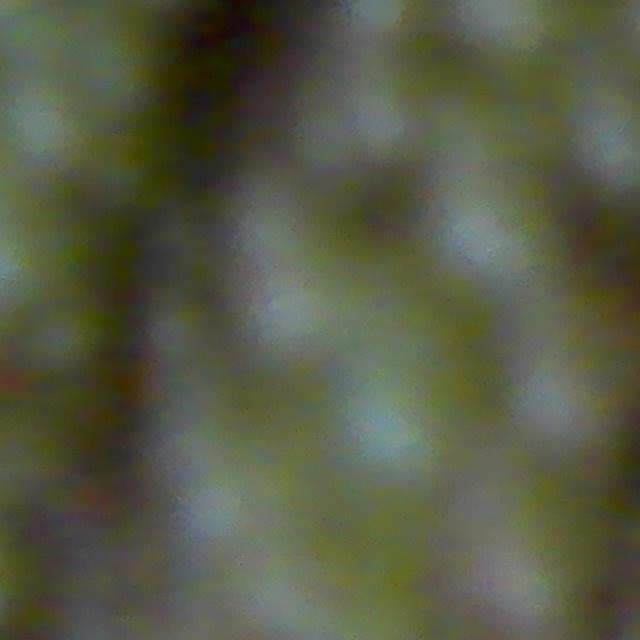SeaGrape: (327, 268, 489, 466), (418, 146, 559, 306), (564, 84, 640, 199), (1, 82, 96, 173), (23, 299, 108, 380)
